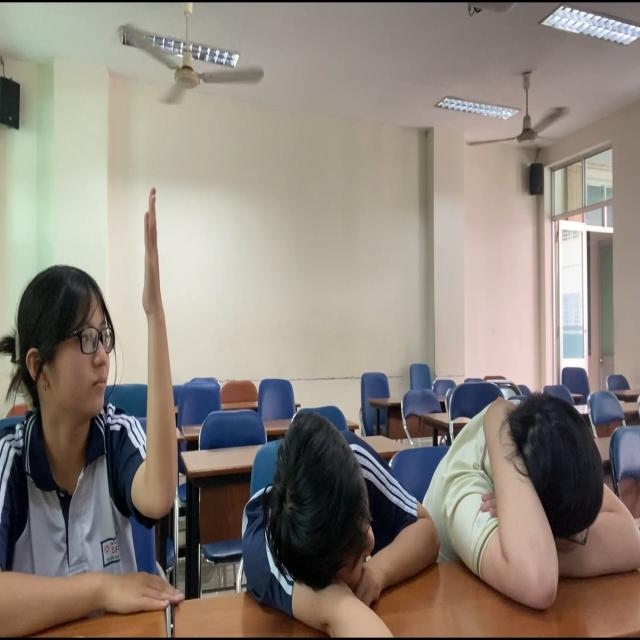raise_hand: (1, 144, 207, 640)
sleep: (219, 399, 448, 640), (443, 376, 640, 640)
